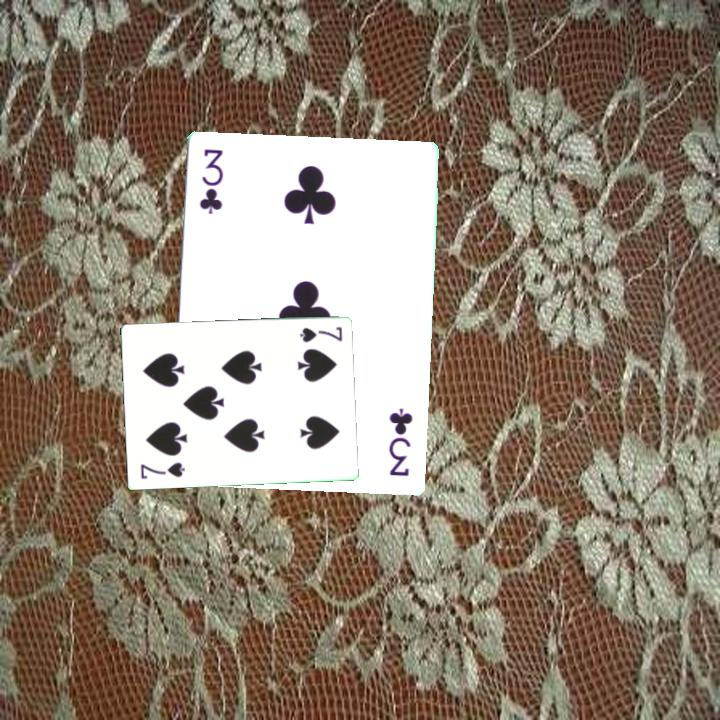3c: (385, 405, 416, 480), (196, 146, 226, 217)
7s: (137, 459, 187, 482), (296, 324, 345, 346)
